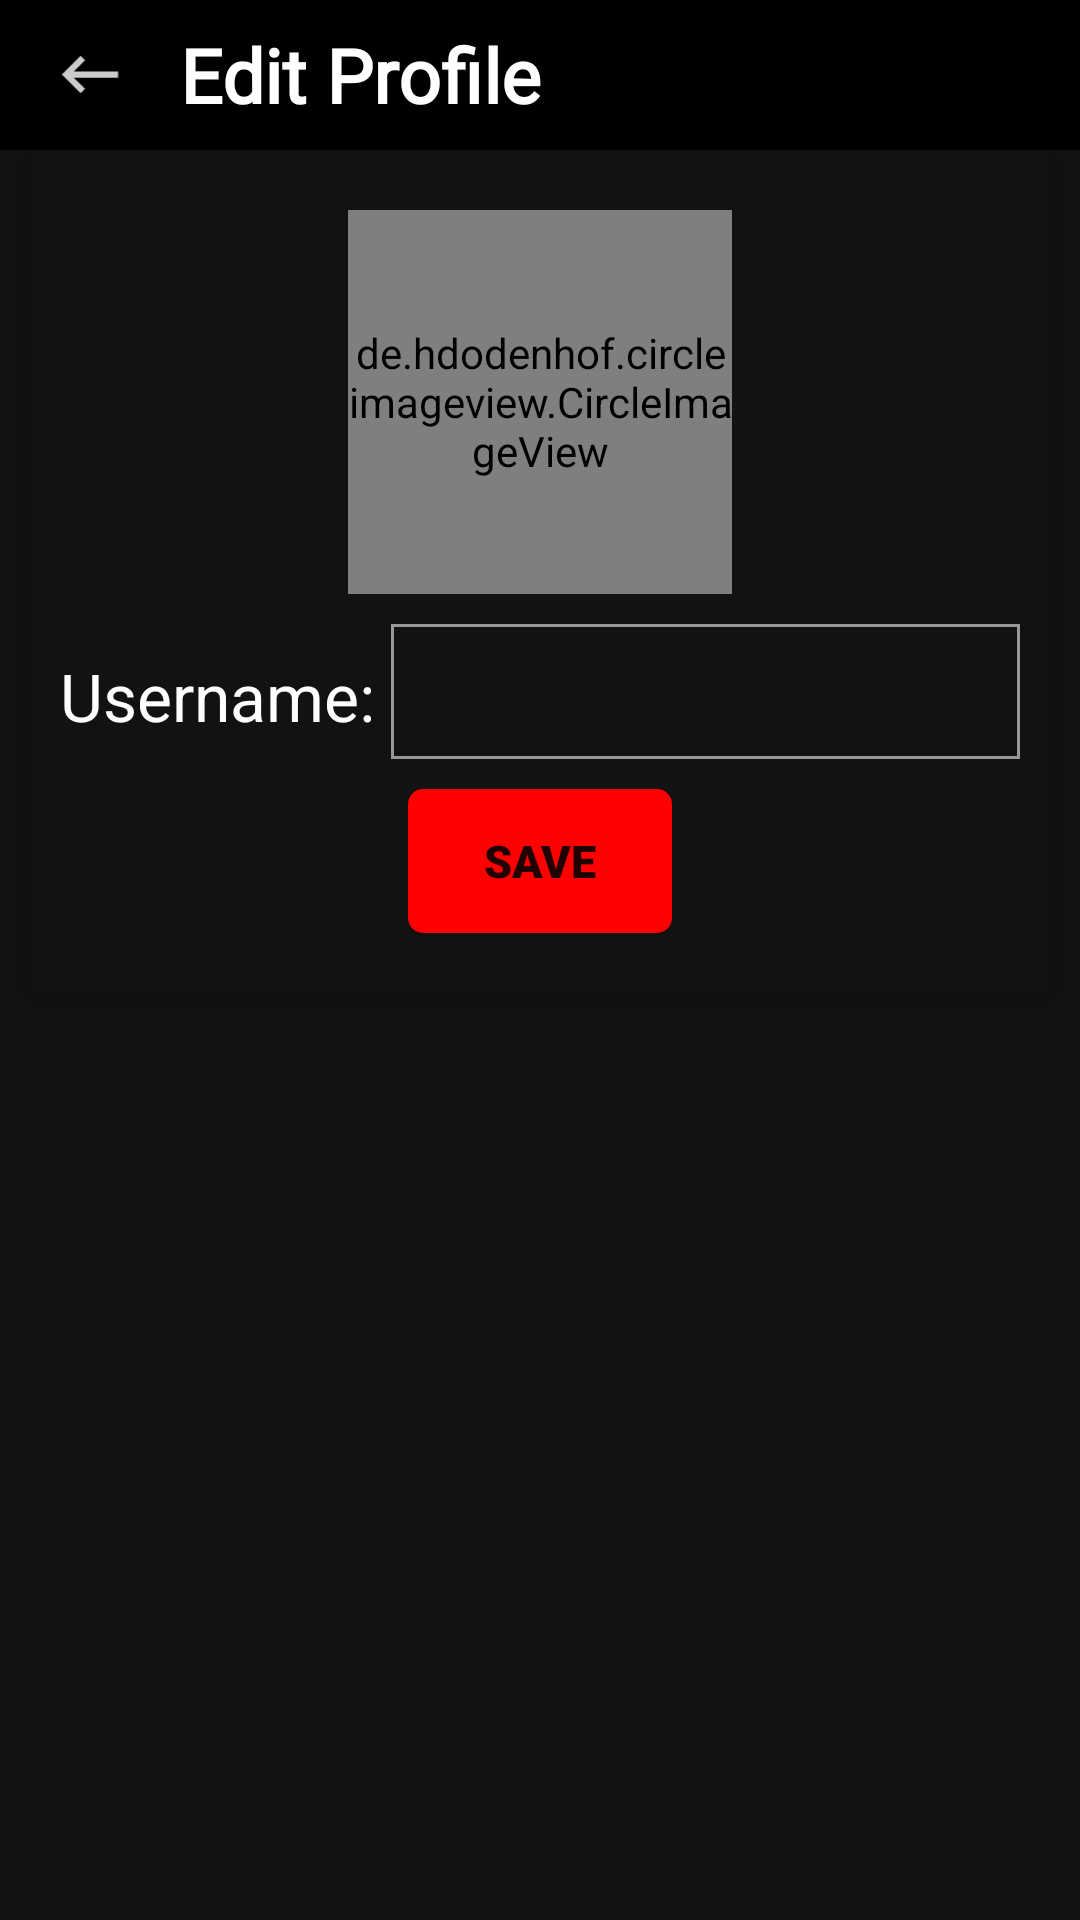

Screen size 1080px x 1920px. Icon name, then its center in pixels as [x,y]:
back: [90,74]
